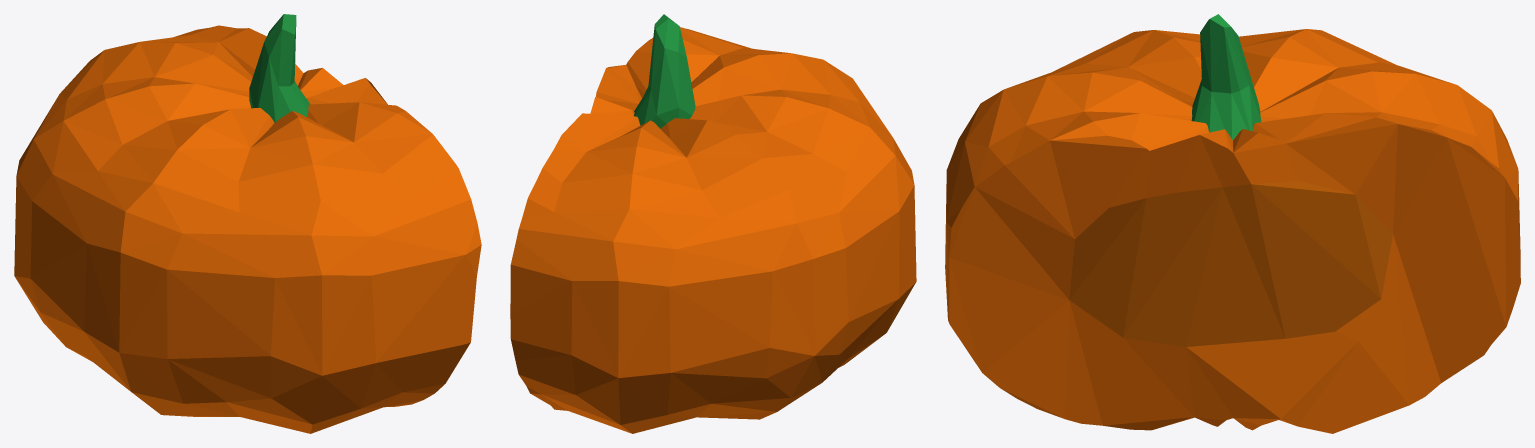
Rendered from Pumpkin_1.fbx.
3 renders of one model, left to right at view 1: azimuth 30°, elevation 25°; view 2: azimuth 150°, elevation 25°; view 3: azimuth 270°, elevation 25°, orthographic. The views are drawn at different scales.
Visible parts, largest first — view 1: Cylinder.010; view 2: Cylinder.010; view 3: Cylinder.010.
Part boxes in pixels (left/top/right/bottom): Cylinder.010: left=14, top=14, right=481, bottom=433; Cylinder.010: left=510, top=14, right=916, bottom=433; Cylinder.010: left=945, top=14, right=1520, bottom=433.
Size of the model in its own units: 578 by 441 by 375.
